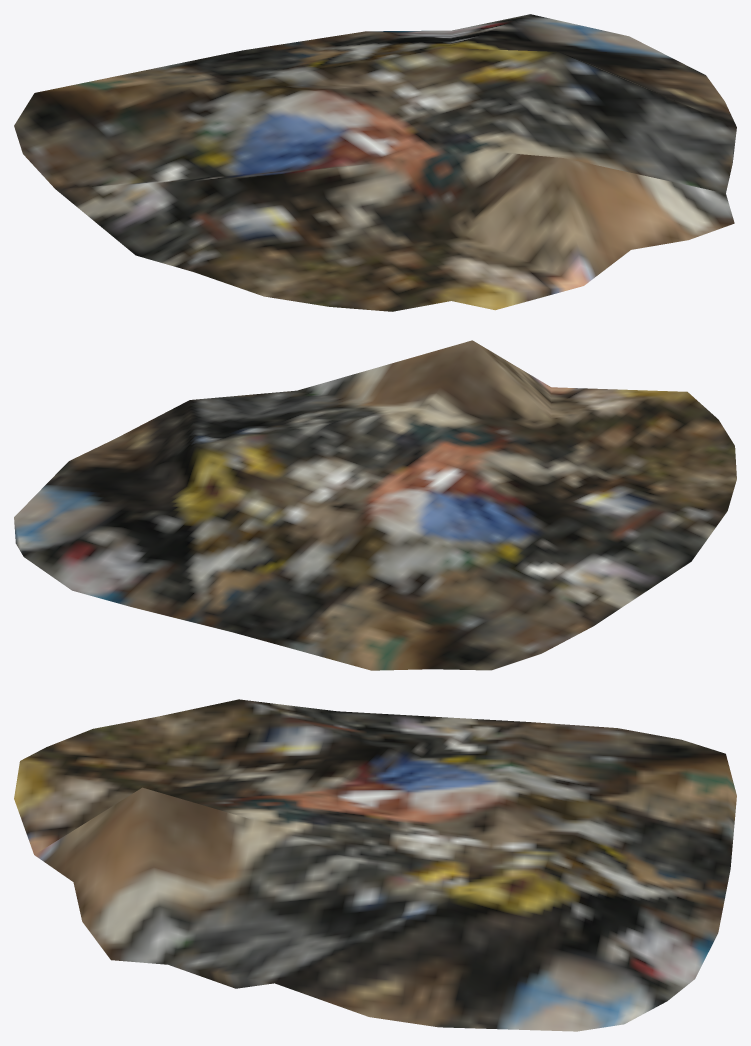
Rendered from MESH_DEBRI_trash.fbx.
3 renders of one model, top to bottom at view 1: azimuth 30°, elevation 25°; view 2: azimuth 150°, elevation 25°; view 3: azimuth 270°, elevation 25°, orthographic. The views are drawn at different scales.
Parts seen in each view (by area): view 1: MESH_DEBRI_trash; view 2: MESH_DEBRI_trash; view 3: MESH_DEBRI_trash.
Boxes of the visible parts, bbox=[...] form: MESH_DEBRI_trash: bbox=[14, 14, 736, 311]; MESH_DEBRI_trash: bbox=[14, 340, 736, 670]; MESH_DEBRI_trash: bbox=[14, 699, 736, 1031].
Bounding box in the file's own units: 2.54 × 0.43 × 2.51.
